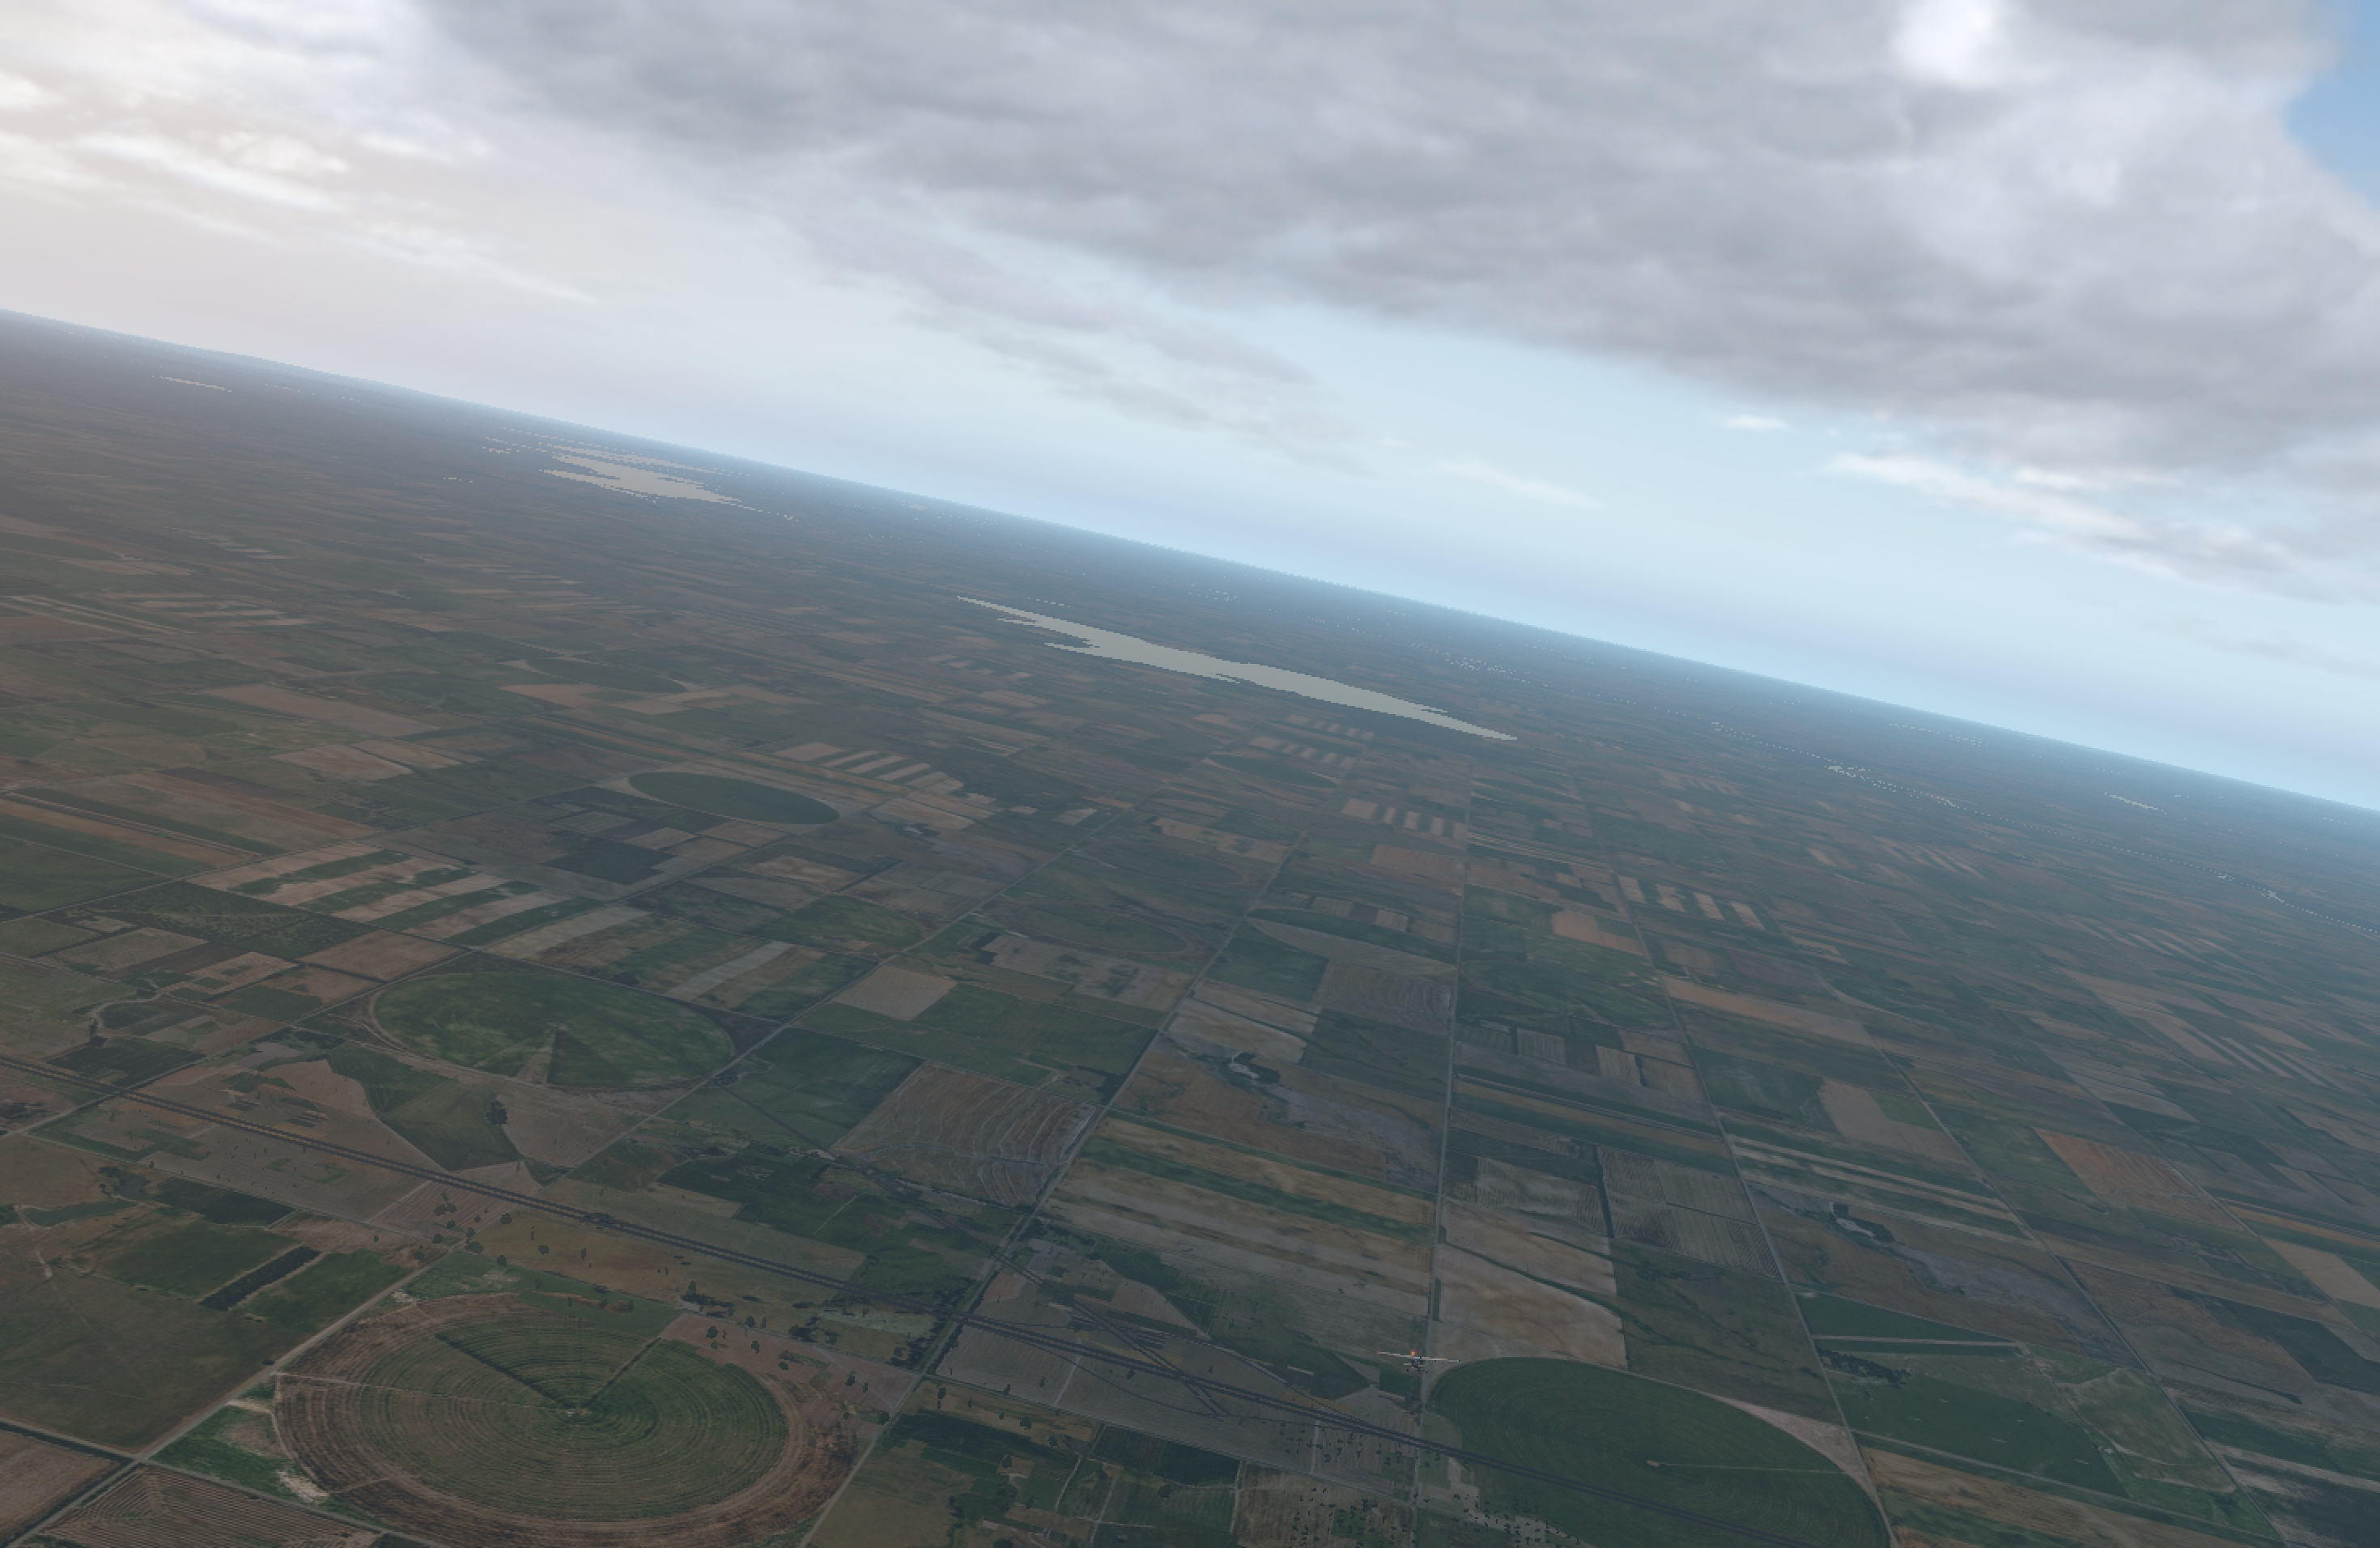aircraft: (1389, 1352, 1447, 1373)
